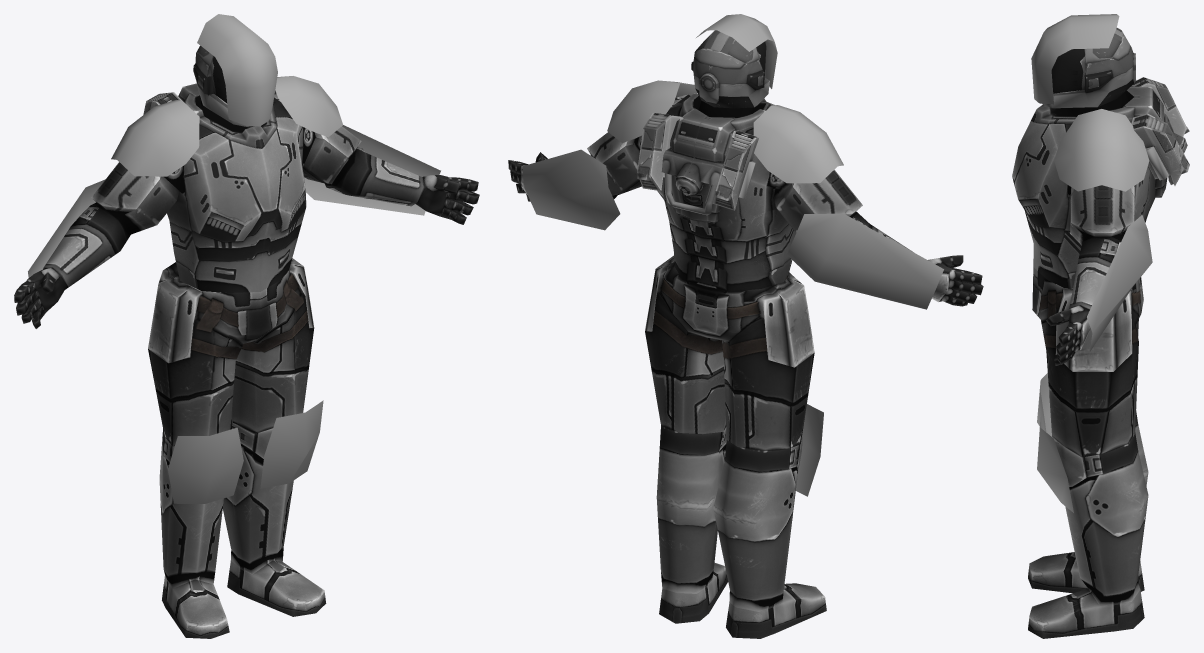
File: Hero_Armor_3_LOD.fbx
3 renders of one model, left to right at view 1: azimuth 30°, elevation 25°; view 2: azimuth 150°, elevation 25°; view 3: azimuth 270°, elevation 25°, orthographic. The views are drawn at different scales.
Parts seen in each view (by area): view 1: Hero_Armor_3_Torso_LOD, Hero_Armor_3_Legs_LOD, Hero_Armor_3_Helmet_LOD; view 2: Hero_Armor_3_Legs_LOD, Hero_Armor_3_Torso_LOD, Hero_Armor_3_Helmet_LOD; view 3: Hero_Armor_3_Legs_LOD, Hero_Armor_3_Torso_LOD, Hero_Armor_3_Helmet_LOD.
Part boxes in pixels (left/top/right/bottom): Hero_Armor_3_Torso_LOD: left=14, top=76, right=479, bottom=328; Hero_Armor_3_Legs_LOD: left=148, top=258, right=326, bottom=638; Hero_Armor_3_Helmet_LOD: left=193, top=14, right=277, bottom=127; Hero_Armor_3_Legs_LOD: left=645, top=255, right=826, bottom=638; Hero_Armor_3_Torso_LOD: left=508, top=80, right=983, bottom=309; Hero_Armor_3_Helmet_LOD: left=691, top=14, right=777, bottom=108; Hero_Armor_3_Legs_LOD: left=1028, top=267, right=1148, bottom=638; Hero_Armor_3_Torso_LOD: left=1012, top=77, right=1189, bottom=365; Hero_Armor_3_Helmet_LOD: left=1031, top=14, right=1135, bottom=108.
Size of the model in its own units: 2.05 by 2.44 by 0.6685.
